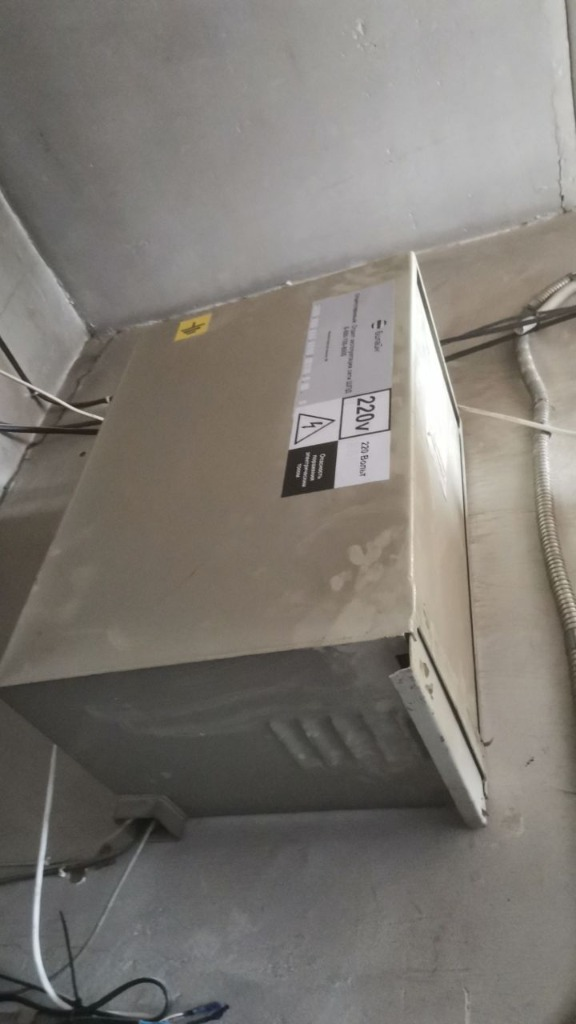sv-5: (5, 247, 507, 824)
